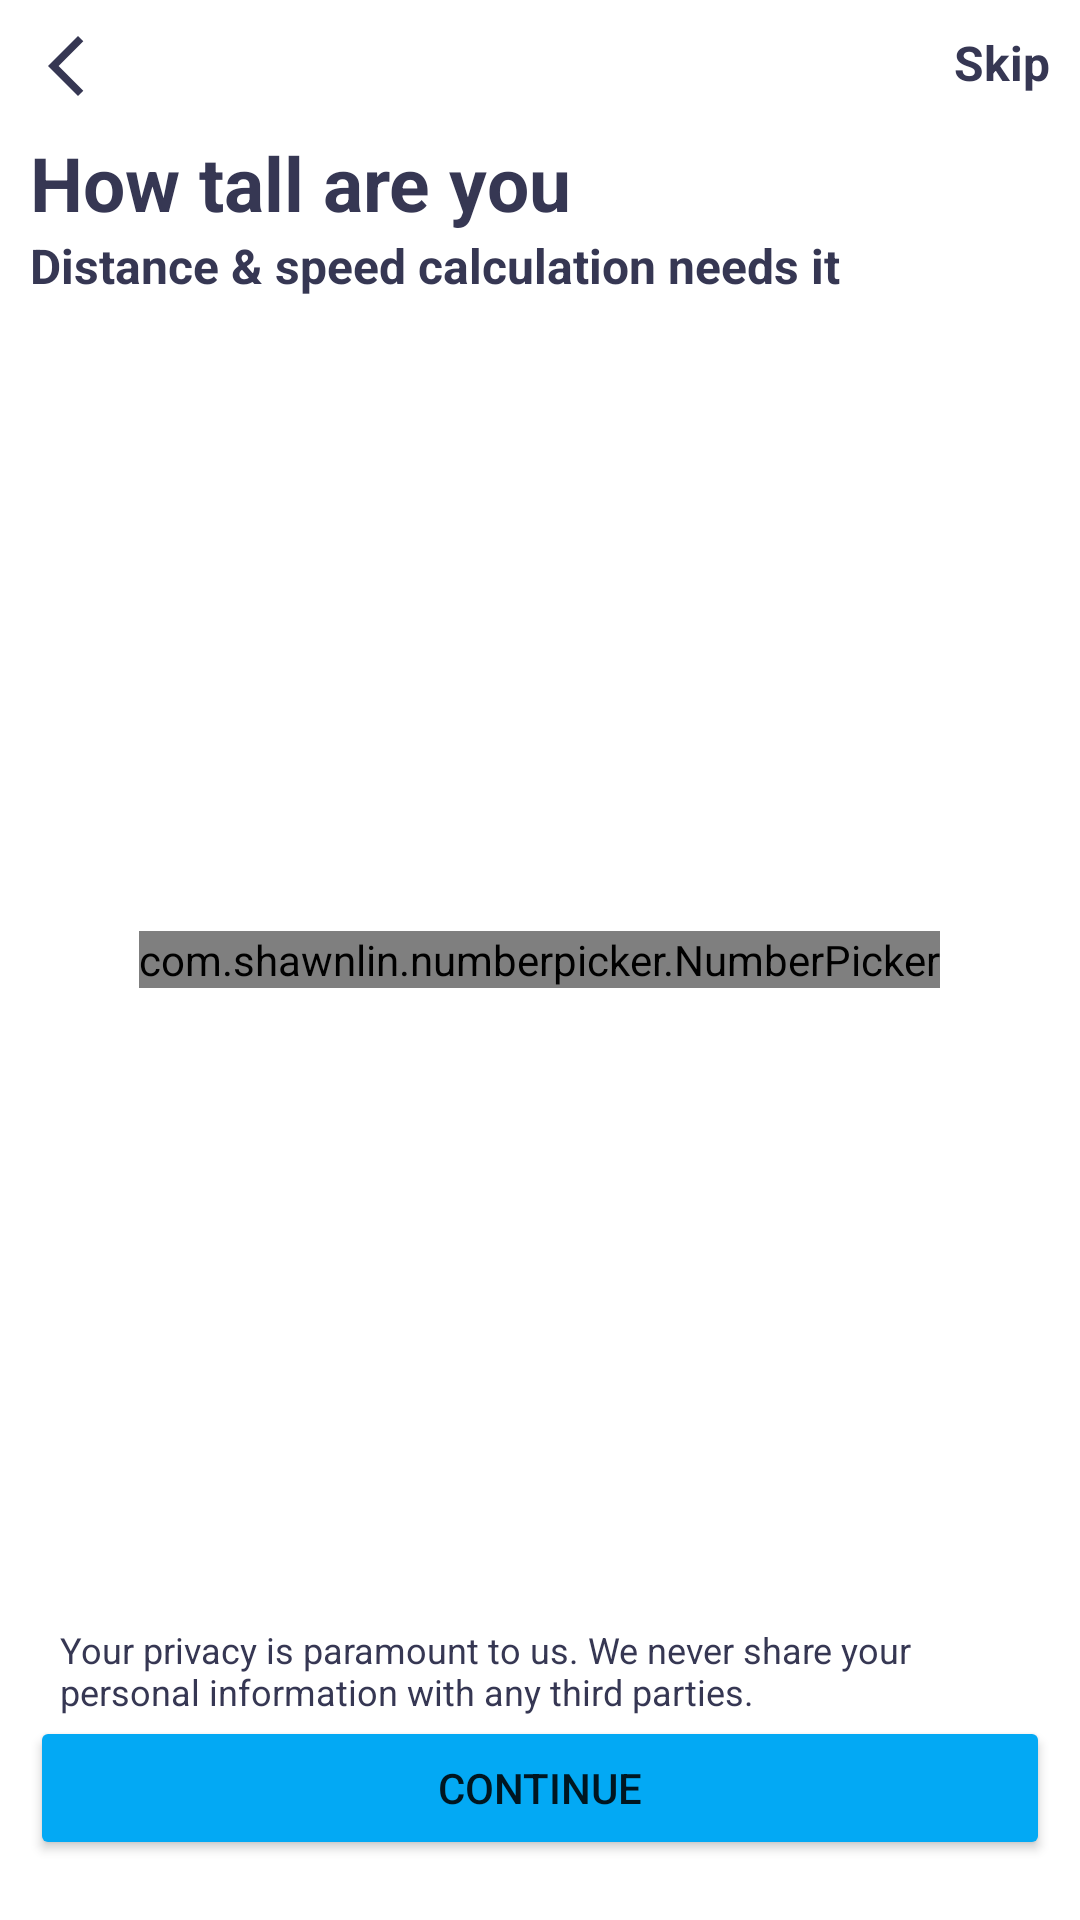

Icons on this 1080*1920 Android screen, each with the point to tap as (x,y):
arrow back: (65,66)
